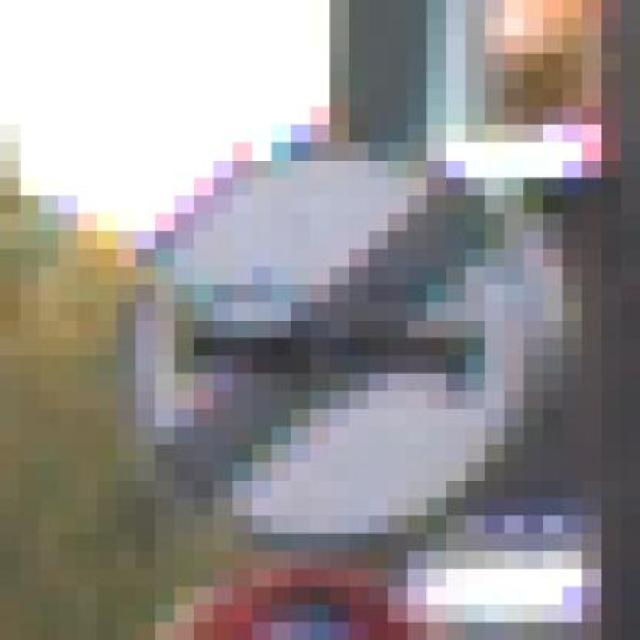No_Over_Taking: (58, 106, 620, 569)
